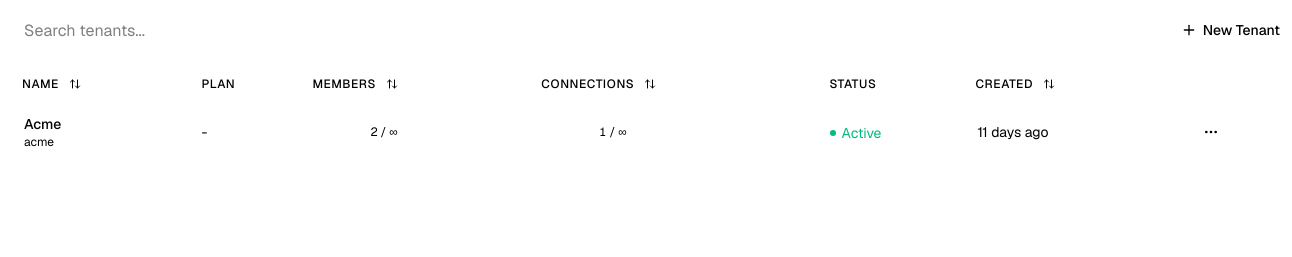
it: TenantList › opens a tenant's actions menu, whose Actions label names the group of its items
Click the button named "Actions for Acme" at {"x": 1211, "y": 132}, box x1=1195 y1=116 x2=1227 y2=148
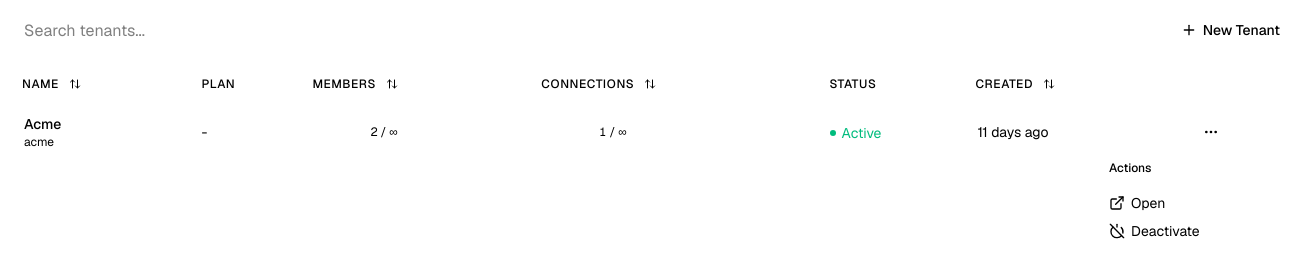
expect the menu items read "Open", "Deactivate", in this order: met, box x1=1109 y1=194 x2=1165 y2=212; x1=1109 y1=222 x2=1200 y2=240
